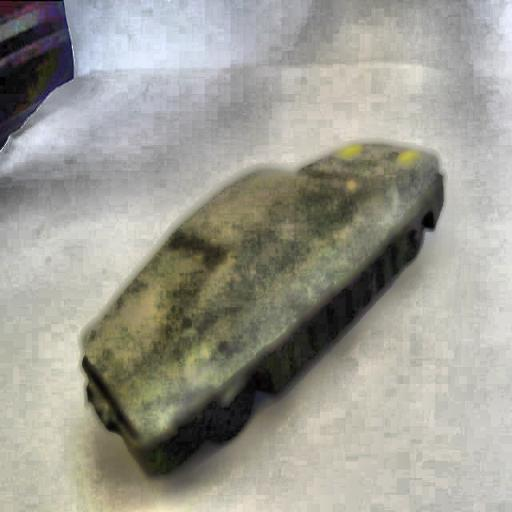normal_car: (78, 143, 444, 483)
